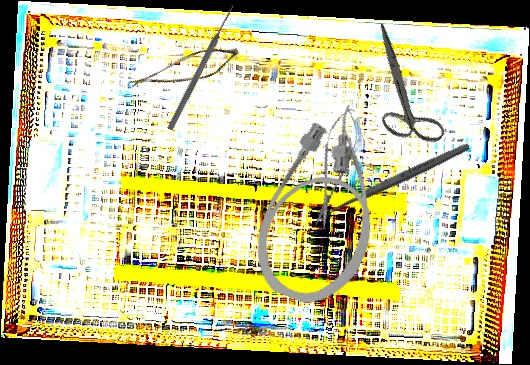Cannula: (239, 91, 415, 318)
Iris Scissors: (331, 22, 475, 161)
Micro Scissor: (126, 29, 243, 113), (304, 104, 365, 233)
Pusher: (165, 3, 238, 132)
Surgical Spoon: (315, 140, 472, 222)
